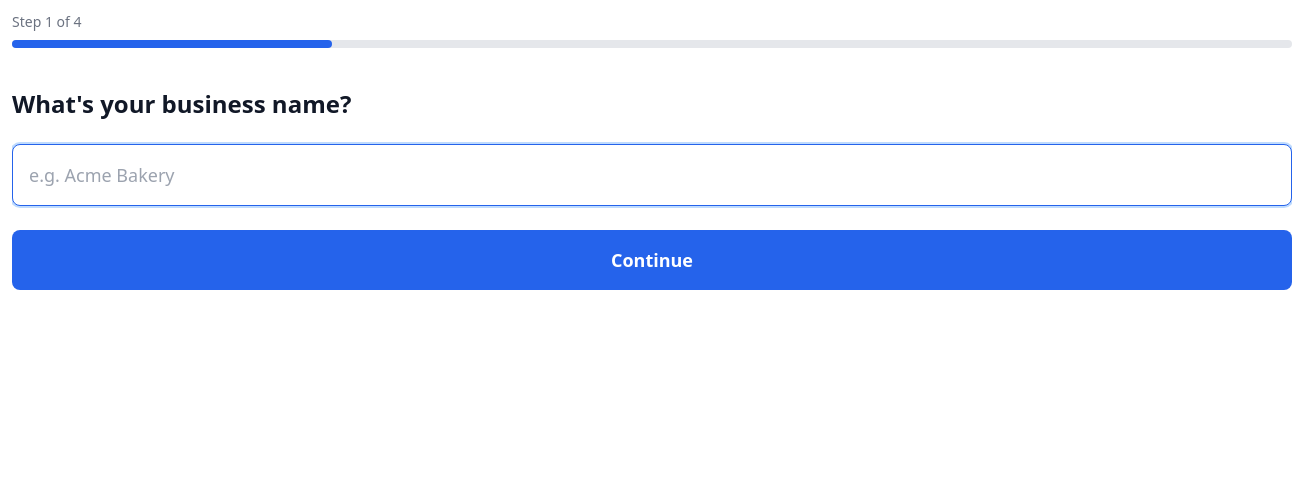
Scenario: BusinessIntroWizard › shows field-level validation errors returned by the API
In the field with placeholder "e.g. Acme Bakery": (652, 175) x1=12 y1=144 x2=1292 y2=206, type "Acme Bakery"
Click the button "Continue": (652, 260) x1=12 y1=230 x2=1292 y2=290
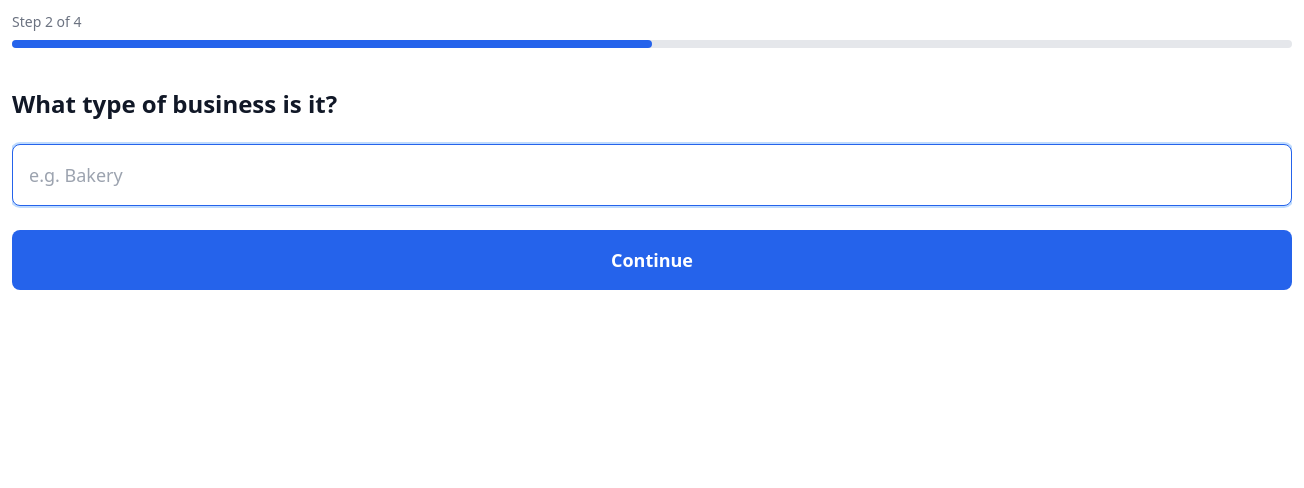
In the field with placeholder "e.g. Bakery": (652, 175) x1=12 y1=144 x2=1292 y2=206, type "Bakery"
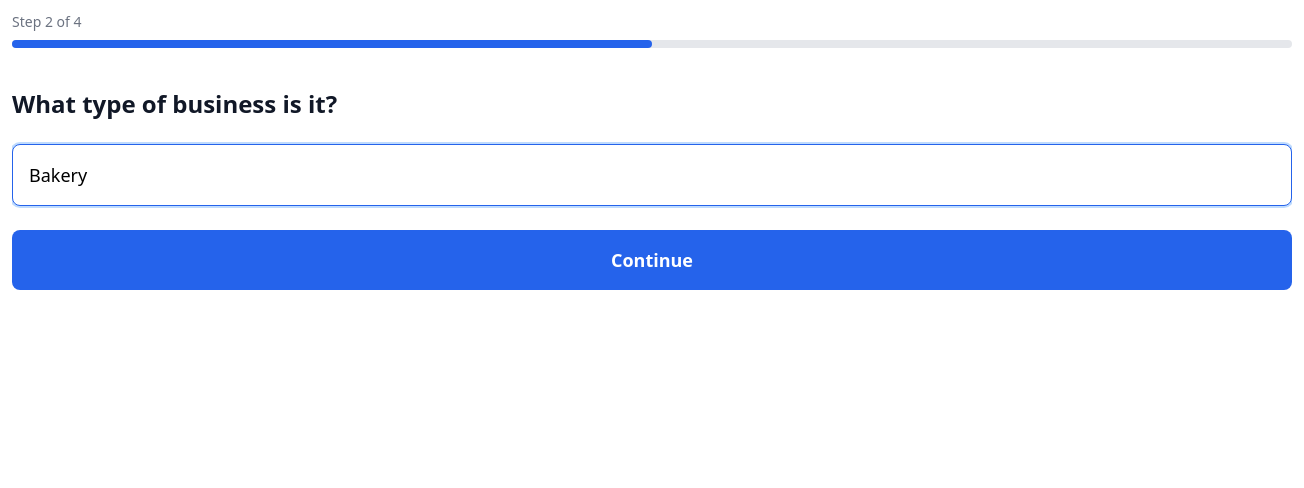
Click the button "Continue": (652, 260) x1=12 y1=230 x2=1292 y2=290
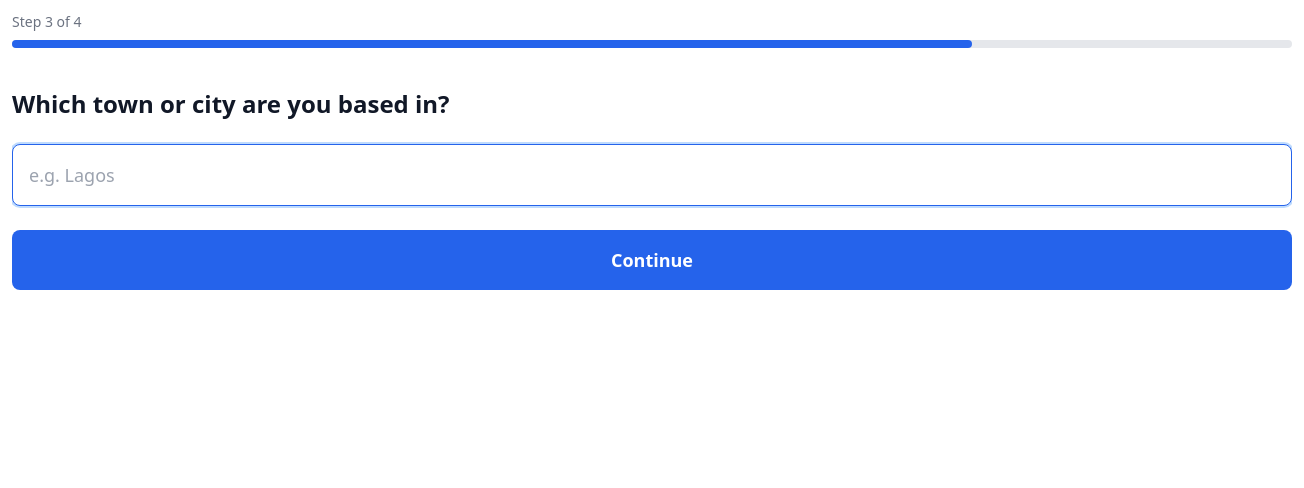
In the field with placeholder "e.g. Lagos": (652, 175) x1=12 y1=144 x2=1292 y2=206, type "Lagos"
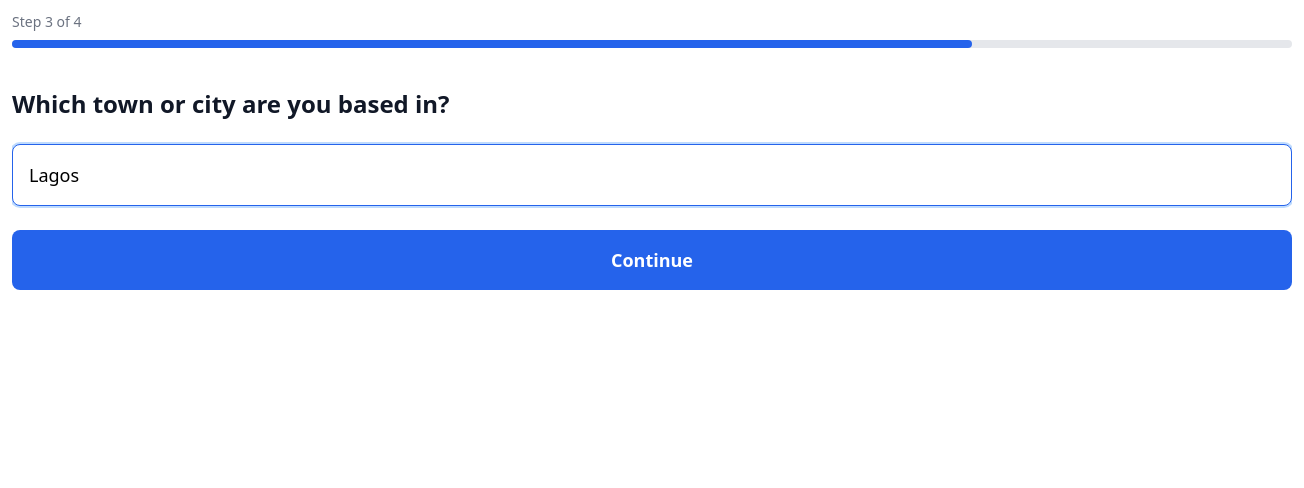
Click the button "Continue": (652, 260) x1=12 y1=230 x2=1292 y2=290
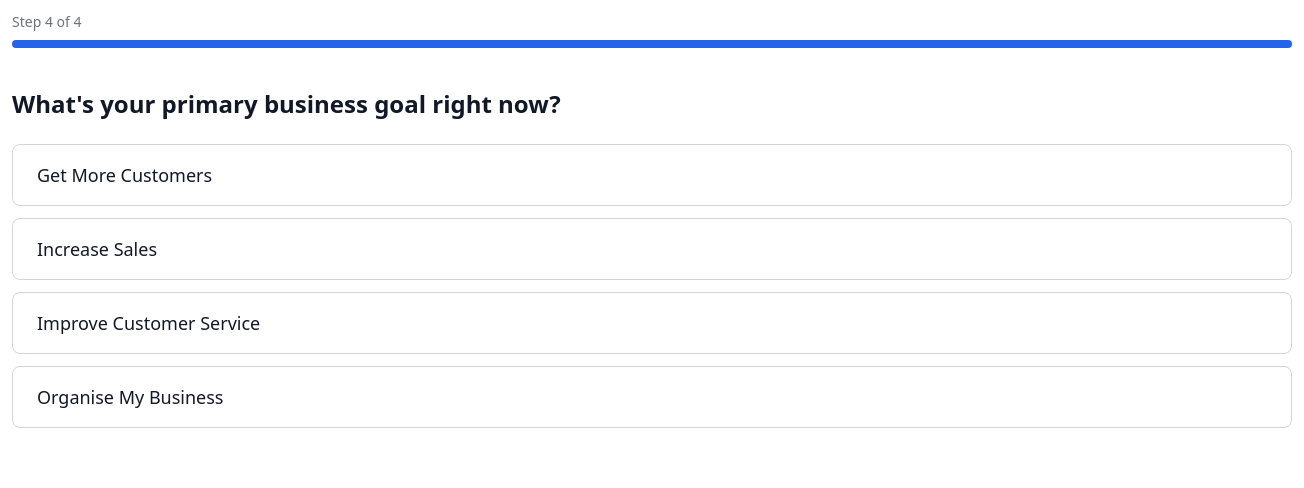
Click the button "Organise My Business": (130, 397) x1=12 y1=366 x2=1292 y2=428
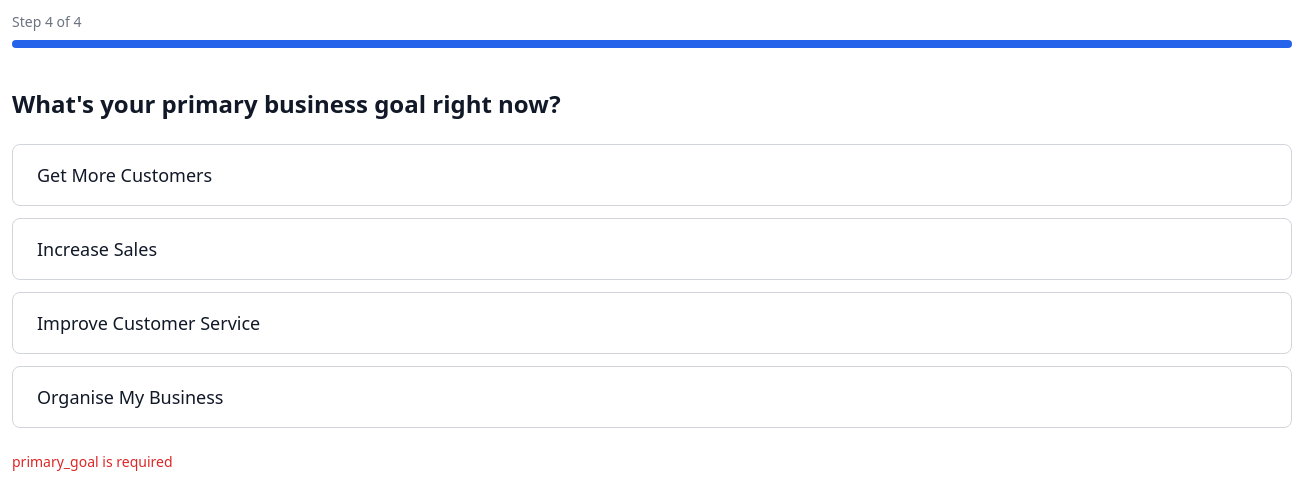
Result: the text "primary_goal is required" is shown at x1=12 y1=452 x2=172 y2=471
